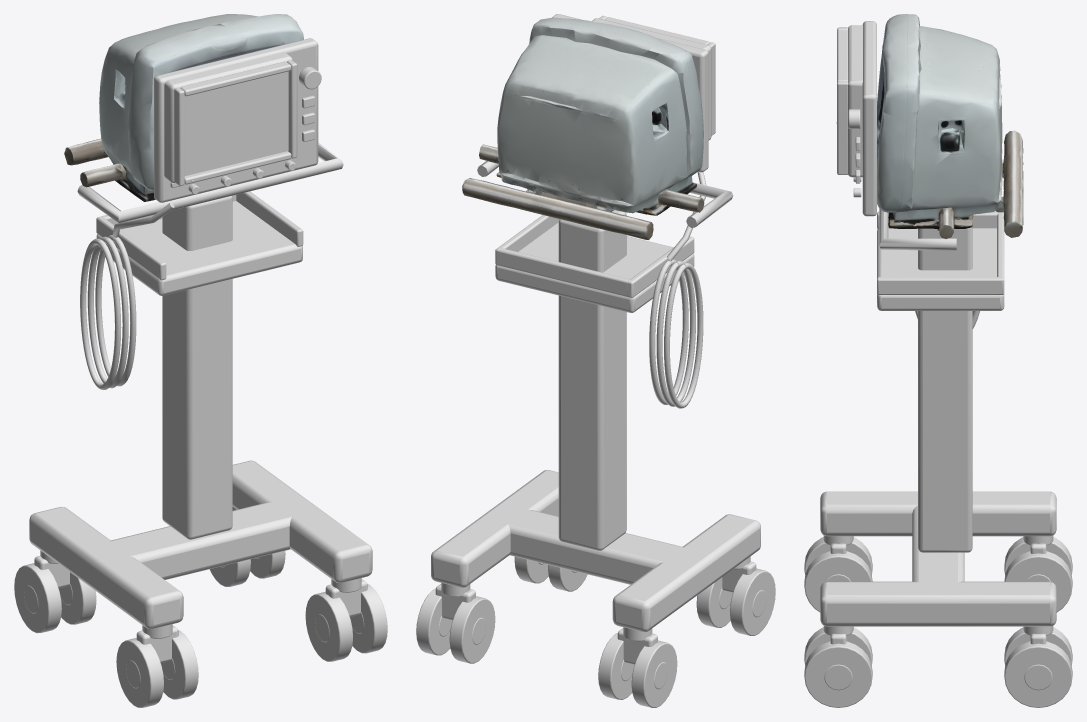
The model's file is CP_VitalMonitor_Repaired.fbx.
The picture shows the model from 3 angles, left to right: view 1: azimuth 30°, elevation 25°; view 2: azimuth 150°, elevation 25°; view 3: azimuth 270°, elevation 25°; orthographic projection. The views are drawn at different scales.
Parts seen in each view (by area): view 1: CP_VitalMonitor_LOD0; view 2: CP_VitalMonitor_LOD0; view 3: CP_VitalMonitor_LOD0.
Boxes of the visible parts, x1,y1,x2,y2 form: CP_VitalMonitor_LOD0: (14,14,387,707); CP_VitalMonitor_LOD0: (416,14,775,707); CP_VitalMonitor_LOD0: (804,14,1072,707).
Size of what is drawn, in the model's own units: 59.2 by 148 by 59.
9 materials, 1 textured.
